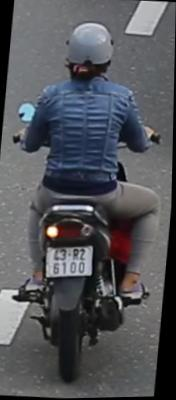LP: (44, 237, 99, 294)
helmet: (61, 15, 120, 86)
